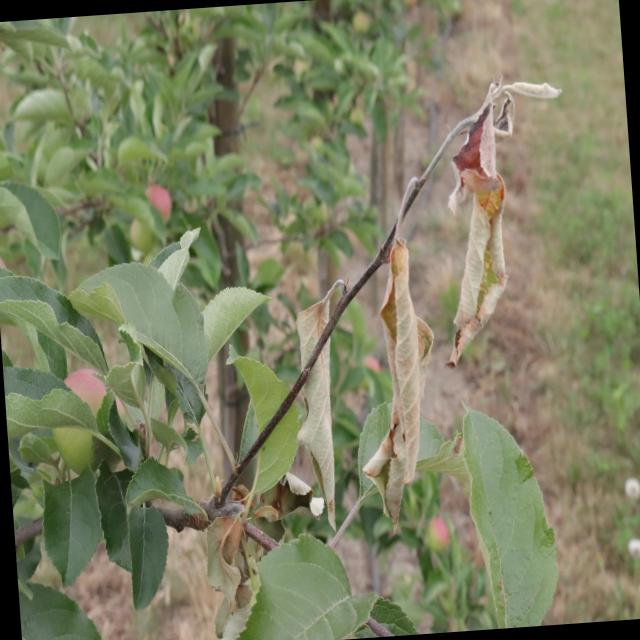-FireBlight-: (442, 91, 534, 348), (355, 234, 433, 496), (296, 292, 349, 517)
